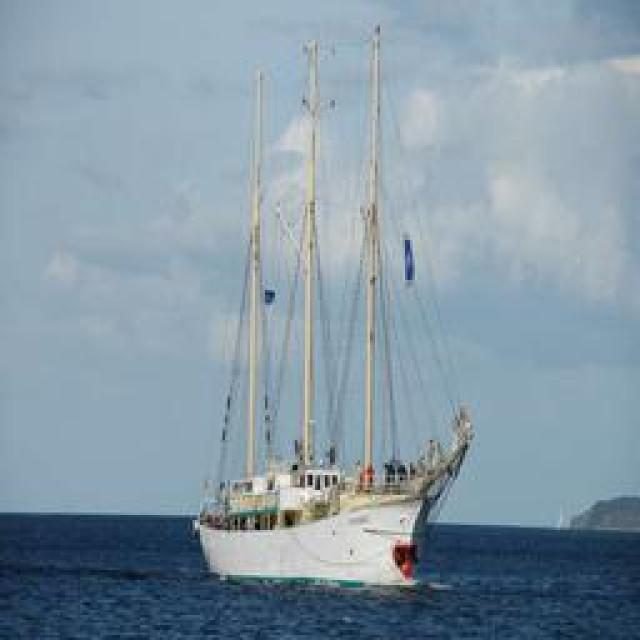ship2: (194, 29, 473, 588)
